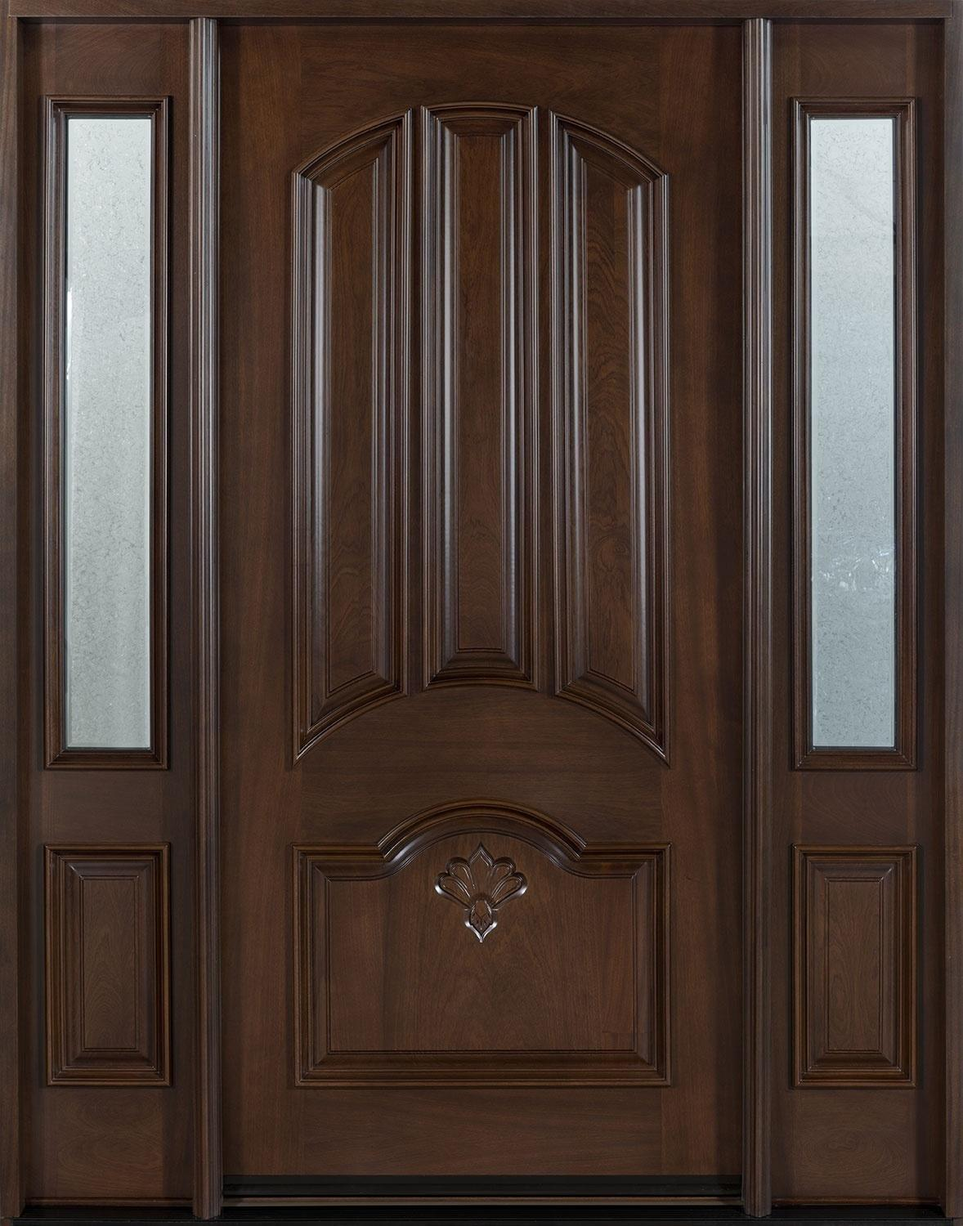door: (206, 7, 724, 1202)
